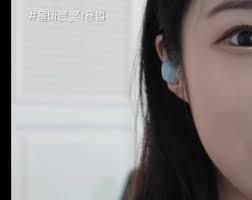earphone: (158, 57, 183, 89)
